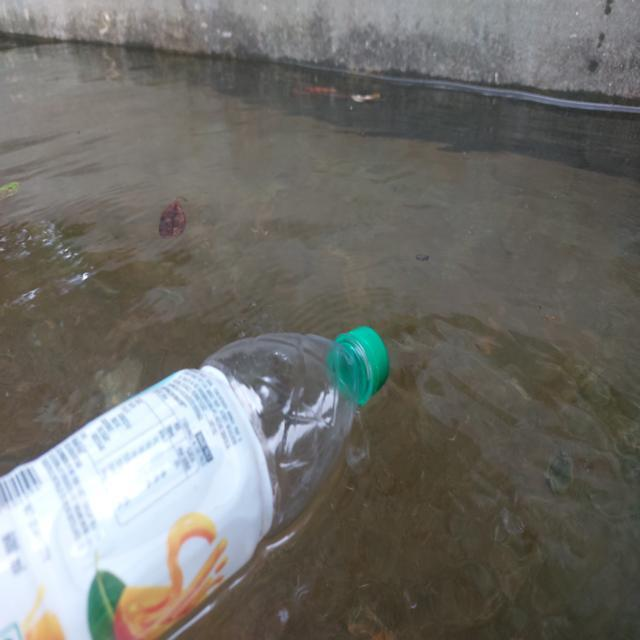leaf: (273, 73, 382, 127), (153, 190, 199, 263), (0, 164, 32, 210), (273, 118, 280, 127)
waterbottle: (0, 289, 441, 640)
